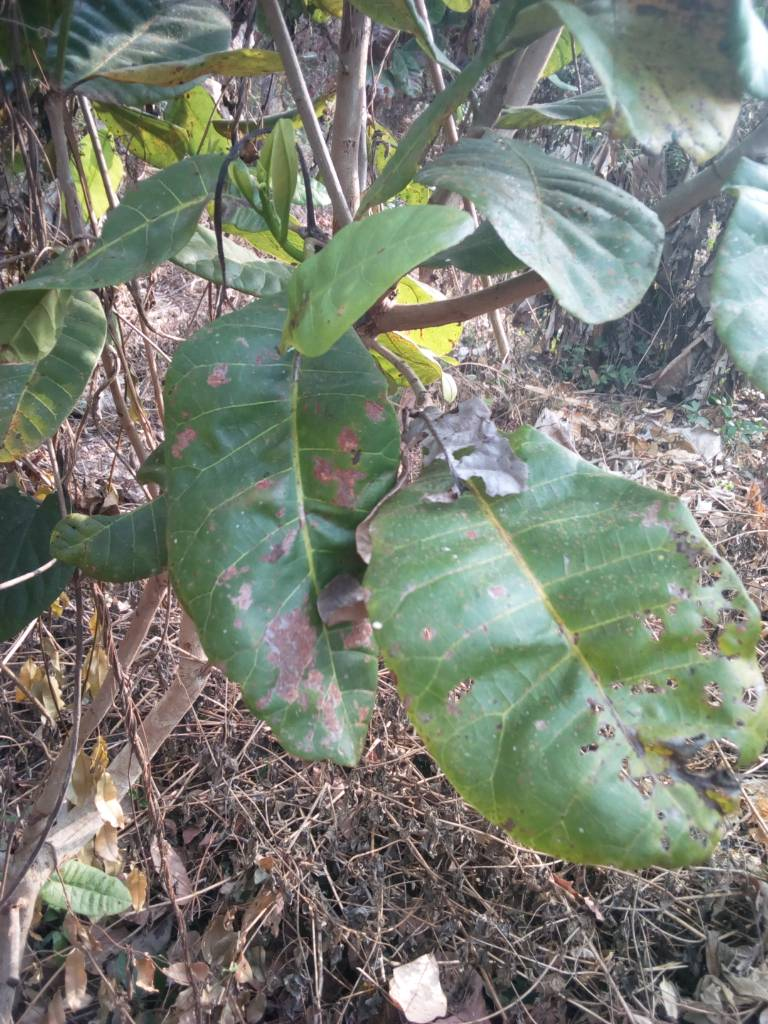Dysdercus wolkerii: (158, 261, 412, 795)
